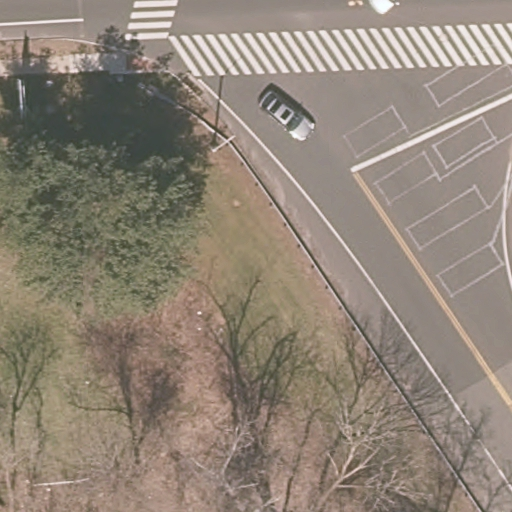DT: (208, 132, 238, 155)
